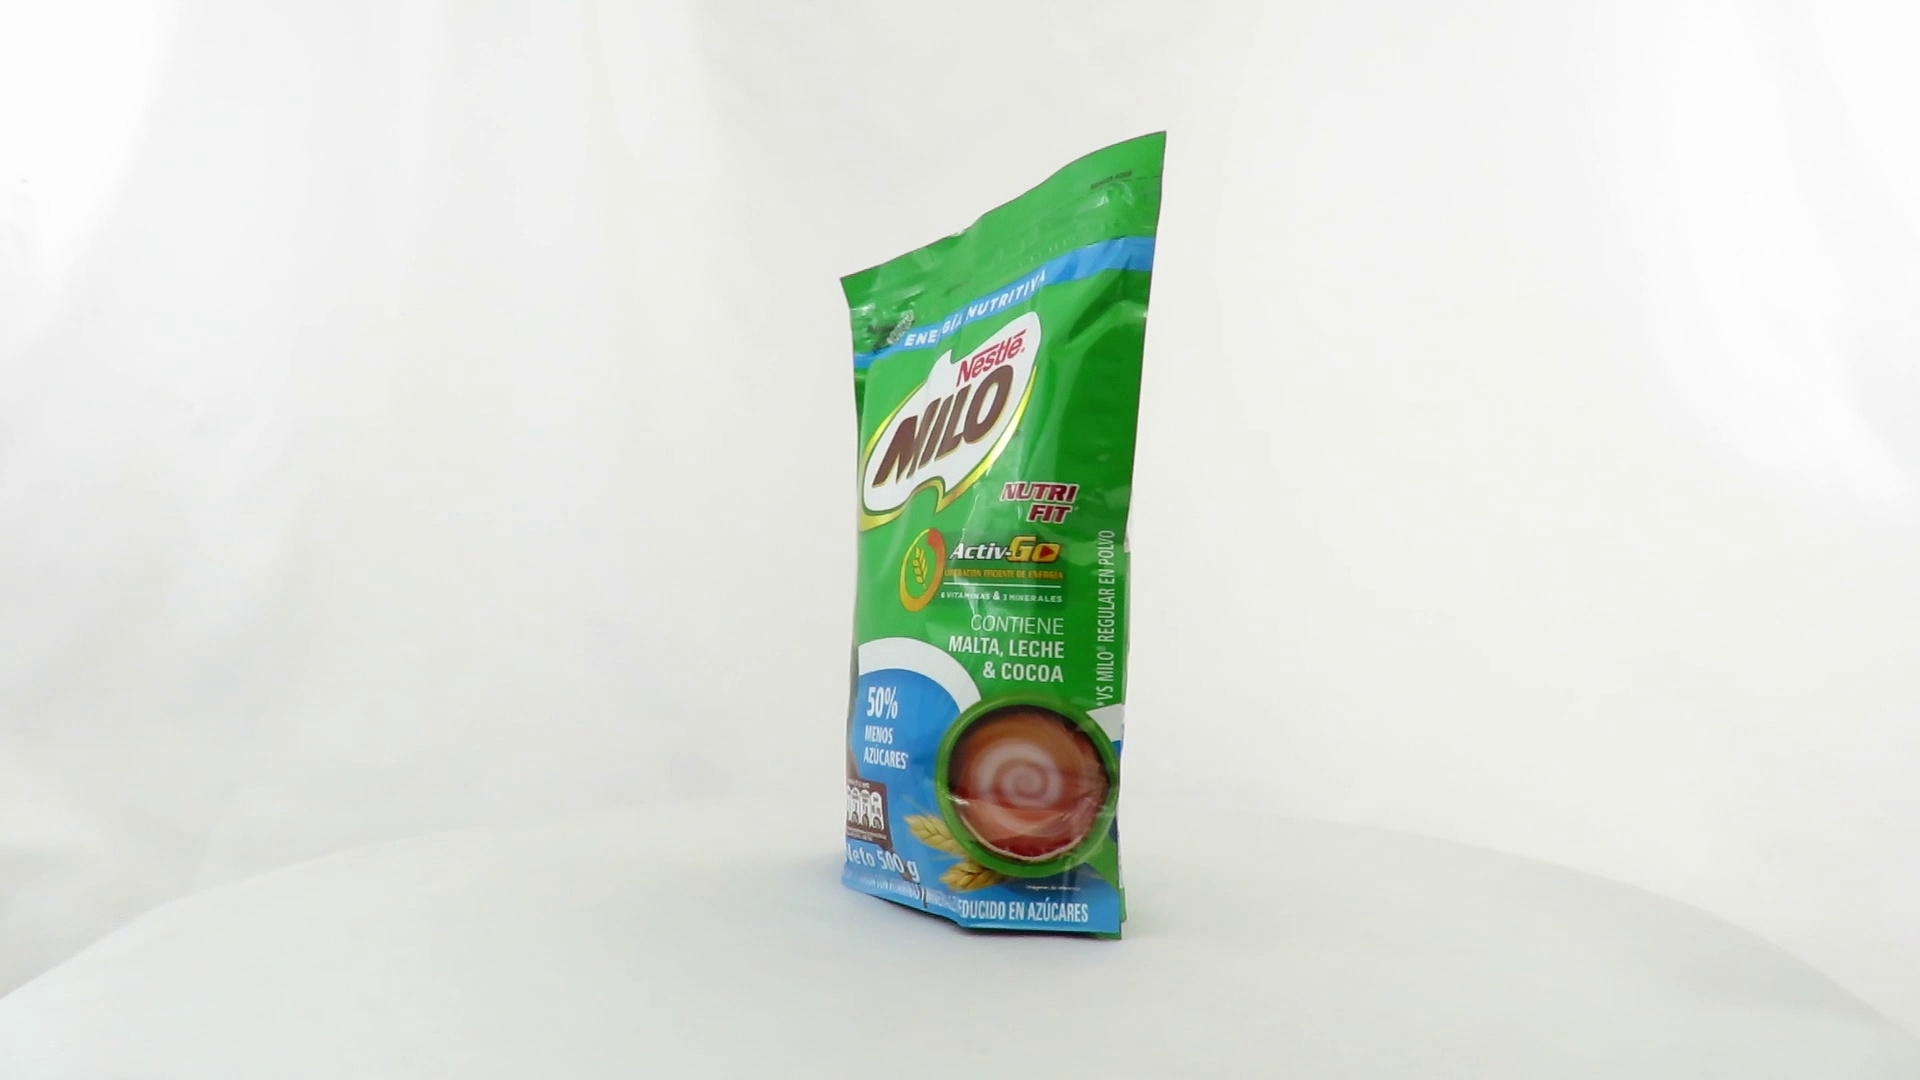COL0170205DYP50000: (777, 125, 1174, 948)
